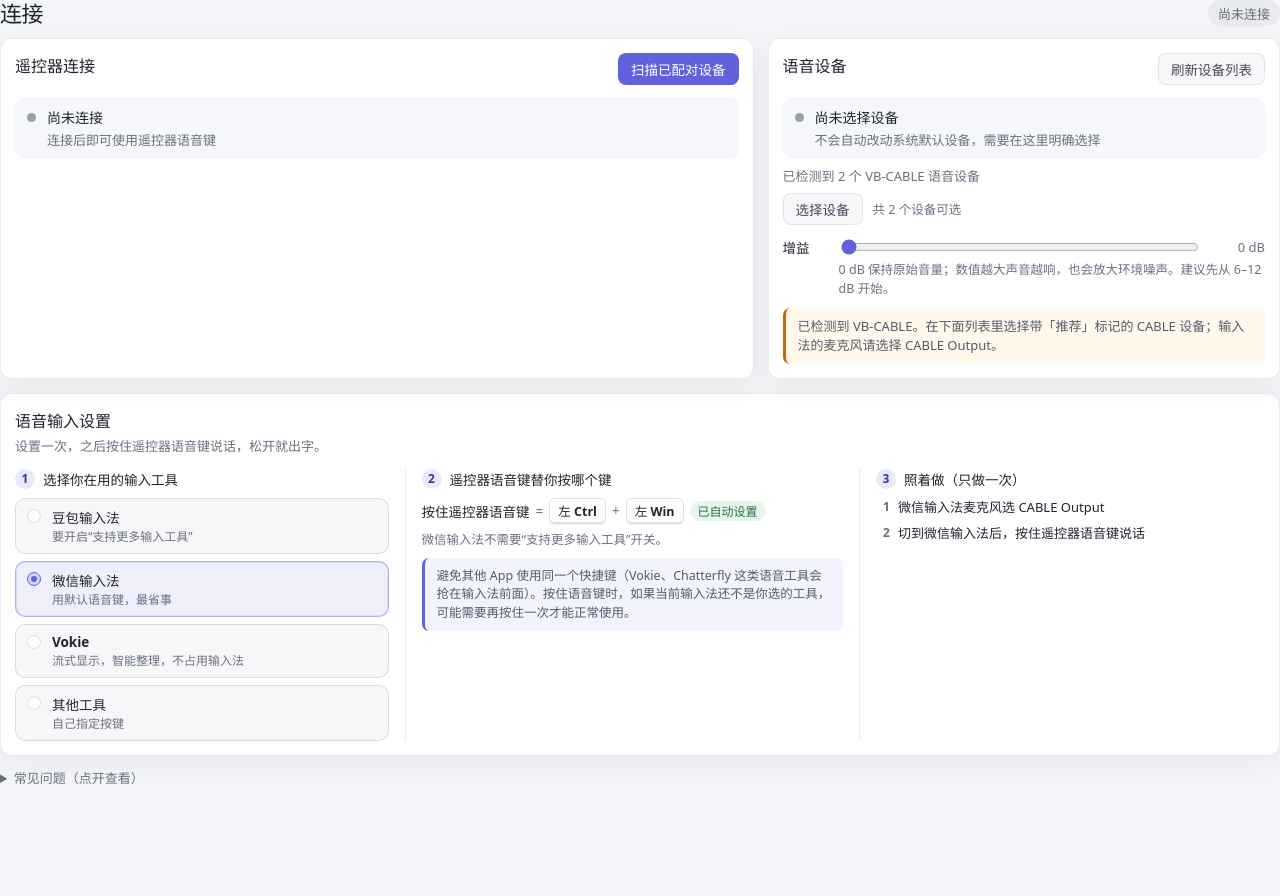
Scenario: VB-CABLE first-launch guidance › 选中的端点被后端自动兜底替换时，文案按实际使用的设备报出
Click the button "选择设备" at [823, 209], box [783,193,863,225]
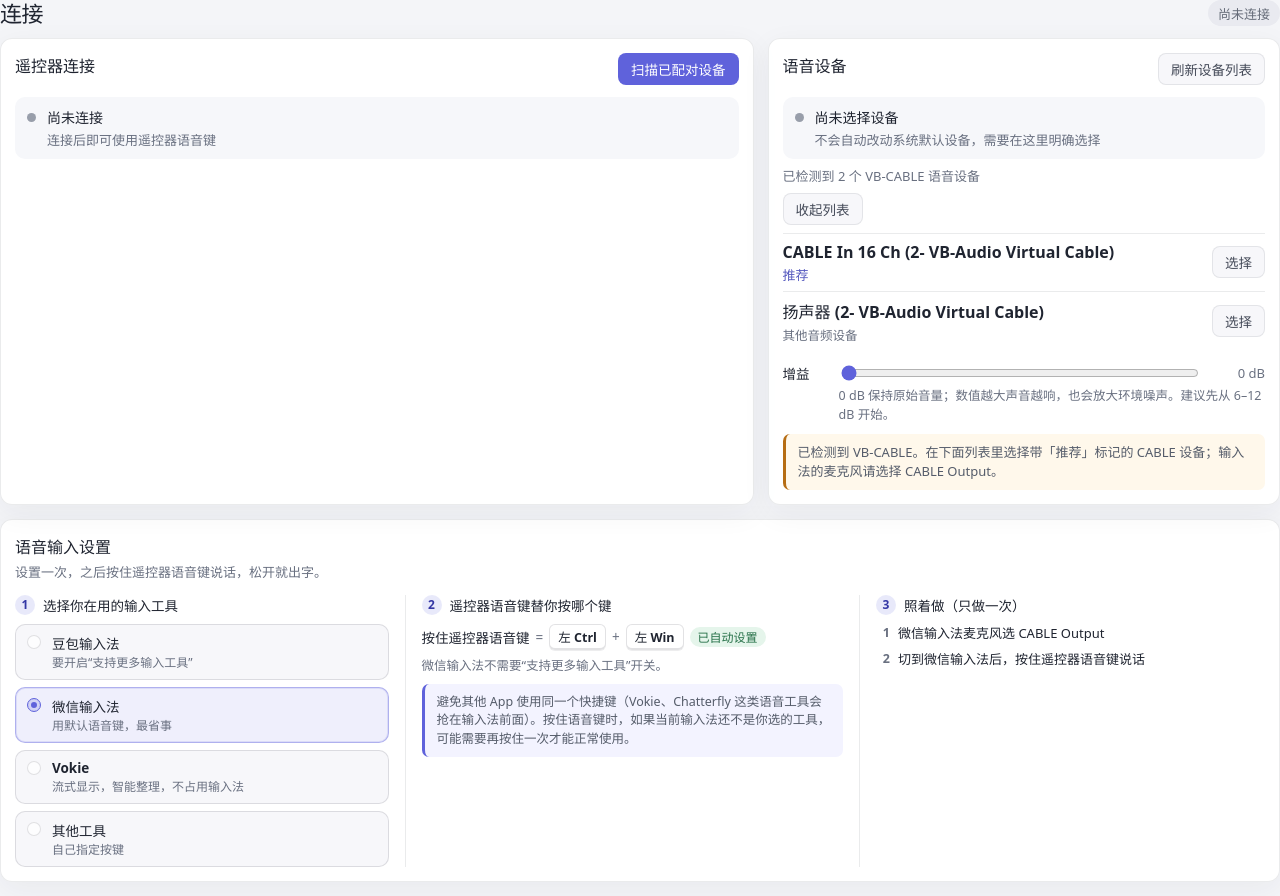
Click the 1st button "选择" at [1238, 262], box [1212,246,1265,278]
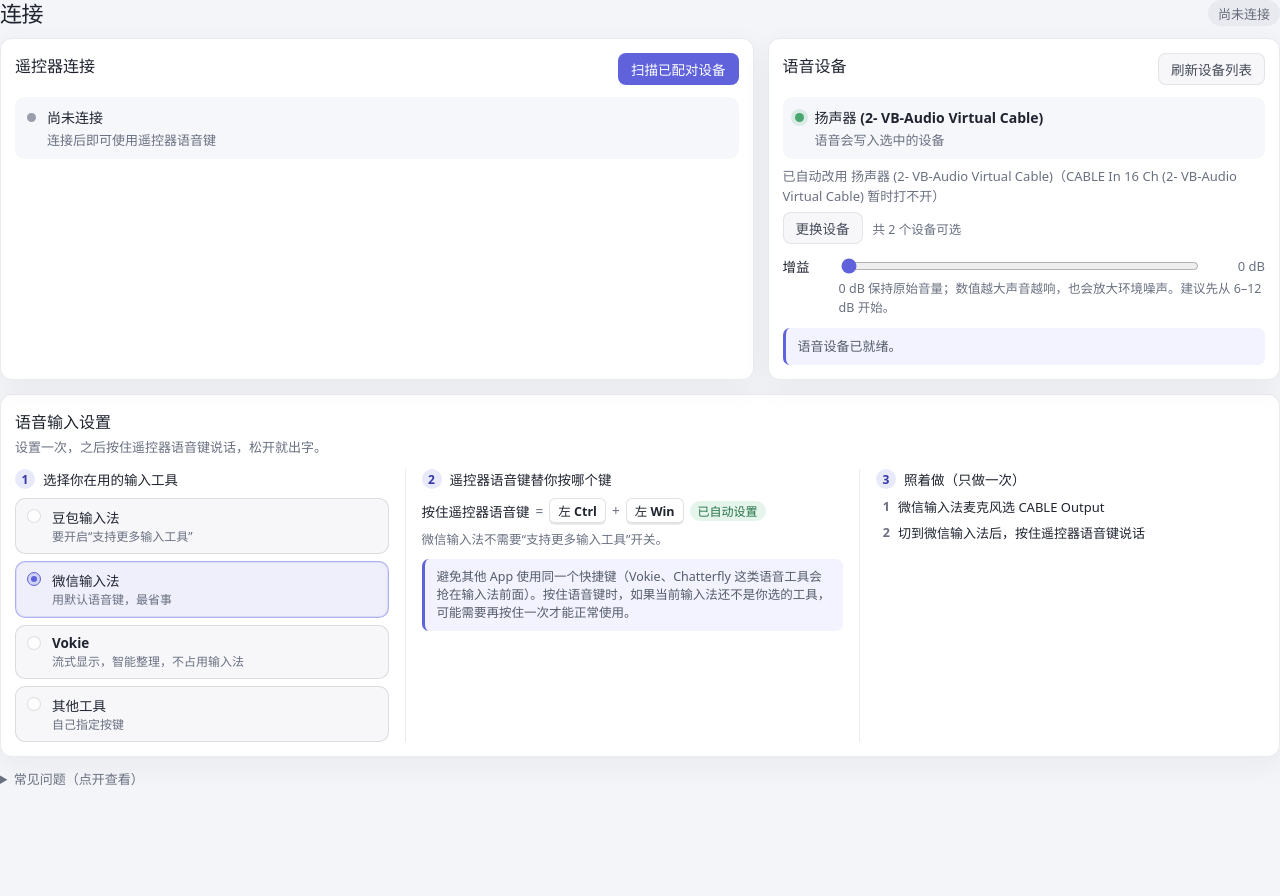
Now the text "已自动改用 扬声器 (2- VB-Audio Virtual Cable)" is shown, box [783,167,1237,205]
Now the text "暂时打不开" is shown, box [783,167,1237,205]
